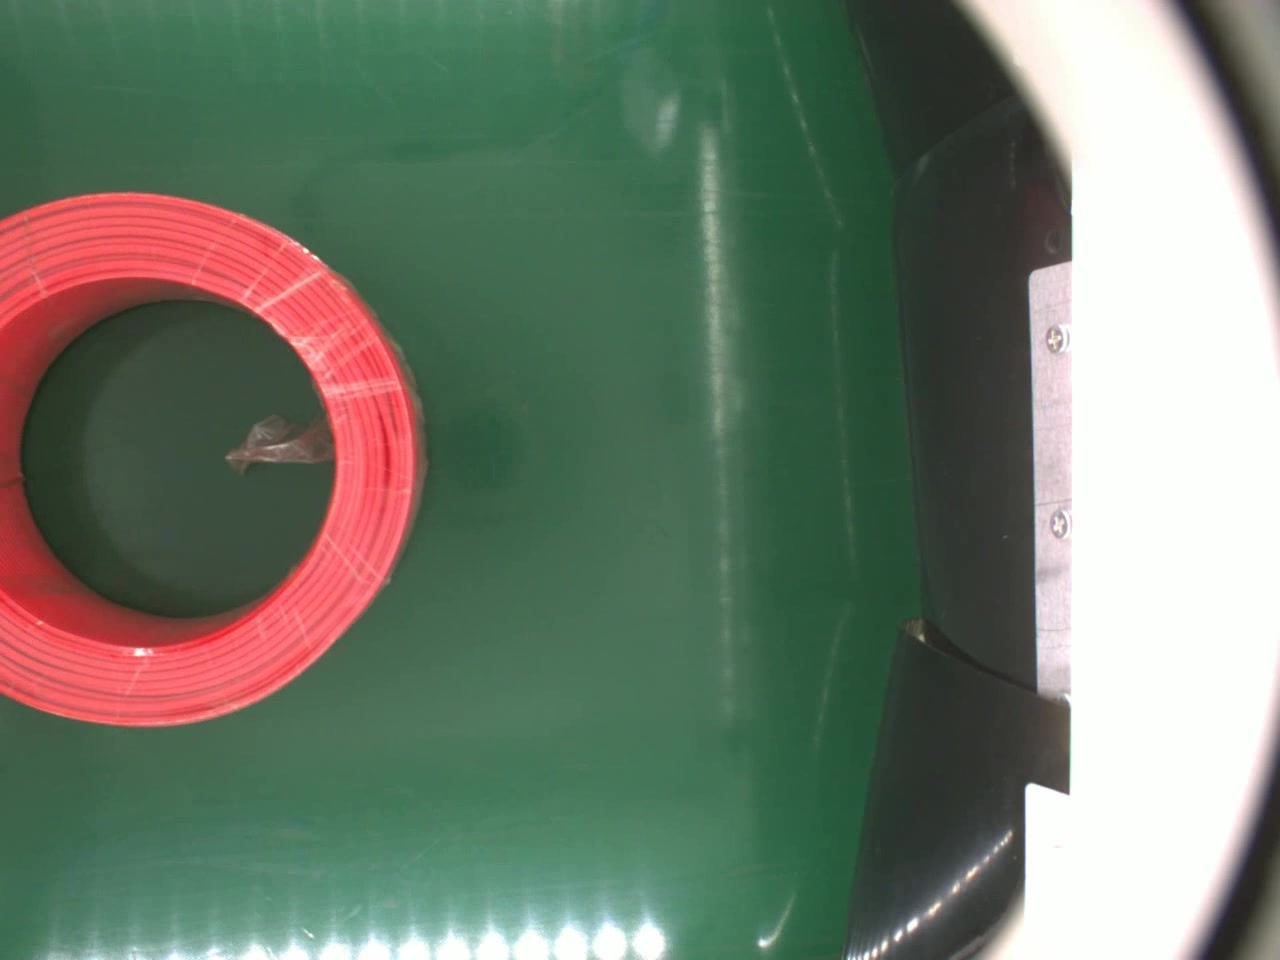red: (0, 190, 426, 730)
